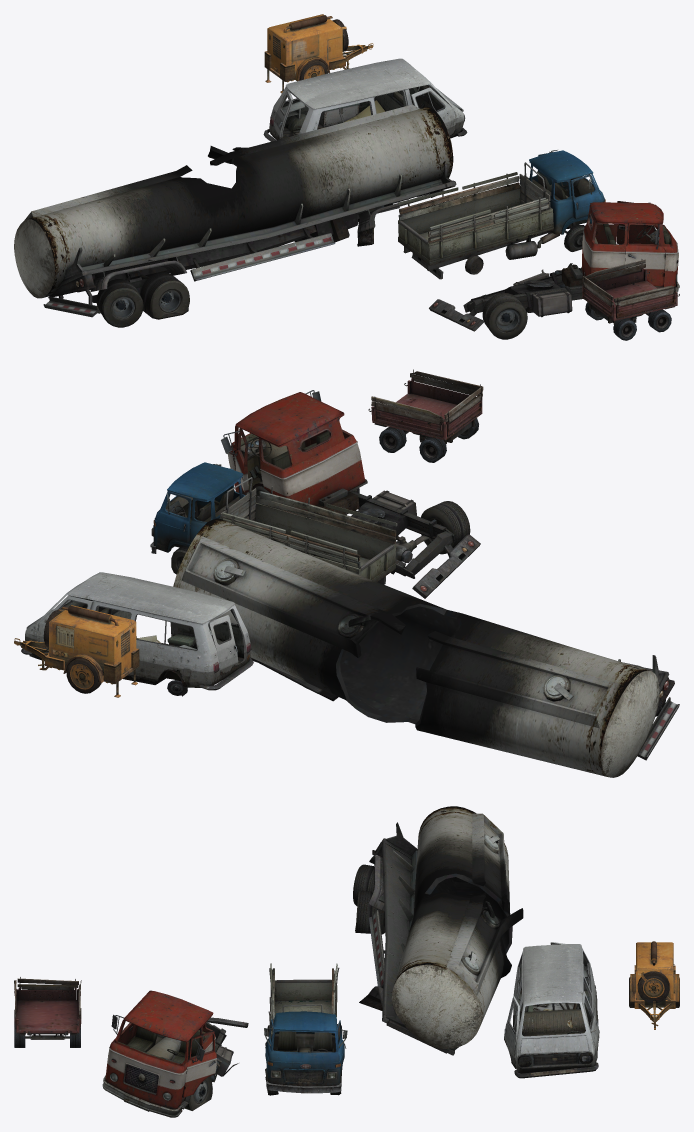
Rendered from wrecked_cars_2.glb.
The picture shows the model from 3 angles, top to bottom: view 1: azimuth 30°, elevation 25°; view 2: azimuth 150°, elevation 25°; view 3: azimuth 270°, elevation 25°; orthographic projection. The views are drawn at different scales.
Visible parts, largest first — view 1: tanker001a_reference.smd_1, truck001a_reference.smd_0, truck002a_cab_reference.smd_2, van001a_reference.smd_3, wagon001a_reference.smd_4, generatortrailer01_reference.smd_5; view 2: tanker001a_reference.smd_1, truck002a_cab_reference.smd_2, truck001a_reference.smd_0, van001a_reference.smd_3, generatortrailer01_reference.smd_5, wagon001a_reference.smd_4; view 3: tanker001a_reference.smd_1, truck002a_cab_reference.smd_2, van001a_reference.smd_3, truck001a_reference.smd_0, wagon001a_reference.smd_4, generatortrailer01_reference.smd_5.
Part boxes in pixels (x1,y1,x2,y2): tanker001a_reference.smd_1: [14, 104, 456, 327]; truck001a_reference.smd_0: [398, 150, 605, 279]; truck002a_cab_reference.smd_2: [429, 201, 679, 339]; van001a_reference.smd_3: [263, 58, 467, 141]; wagon001a_reference.smd_4: [582, 259, 679, 340]; generatortrailer01_reference.smd_5: [264, 14, 373, 93]; tanker001a_reference.smd_1: [173, 518, 679, 777]; truck002a_cab_reference.smd_2: [221, 390, 480, 598]; truck001a_reference.smd_0: [150, 462, 397, 584]; van001a_reference.smd_3: [21, 572, 253, 696]; generatortrailer01_reference.smd_5: [14, 605, 139, 697]; wagon001a_reference.smd_4: [368, 369, 483, 462]; tanker001a_reference.smd_1: [353, 806, 523, 1055]; truck002a_cab_reference.smd_2: [102, 990, 248, 1117]; van001a_reference.smd_3: [504, 942, 599, 1078]; truck001a_reference.smd_0: [264, 963, 347, 1095]; wagon001a_reference.smd_4: [14, 977, 81, 1047]; generatortrailer01_reference.smd_5: [629, 941, 679, 1029].
Bounding box in the file's own units: 12.64 × 2.96 × 14.76.
Materials: 6 (6 with a texture image).
